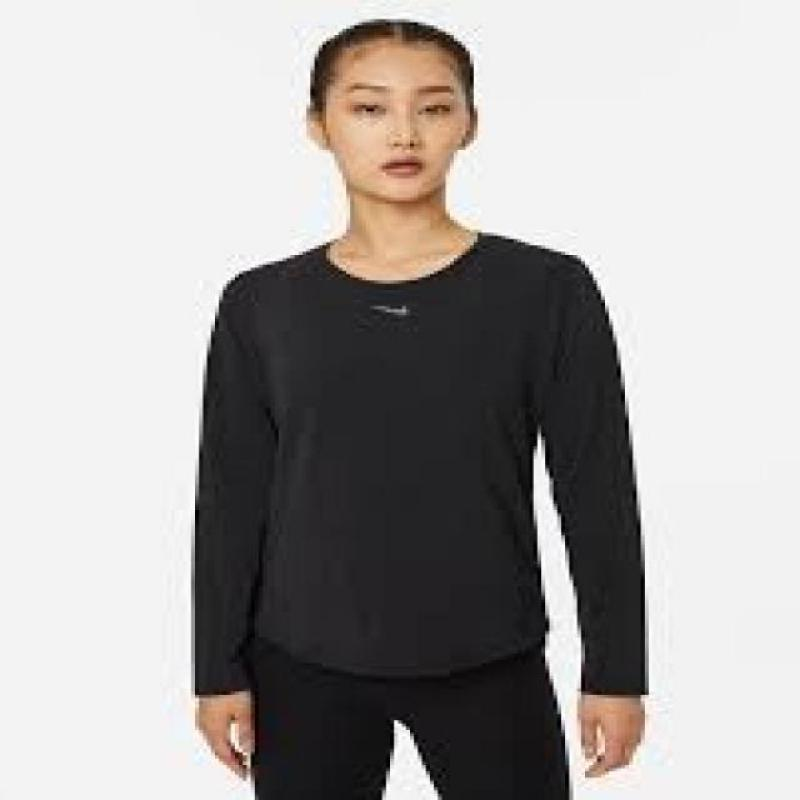long sleeve shirt: (190, 231, 652, 700)
